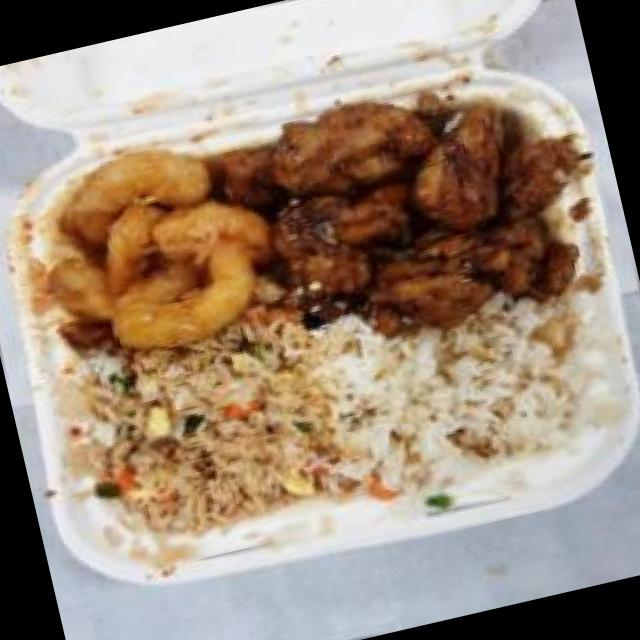Fried Rice: (63, 303, 361, 556)
Honey Walnut Shrimp: (9, 121, 296, 379)
The Original Orange Chicken: (212, 48, 623, 378)
White Steamed Rice: (326, 288, 606, 514)
